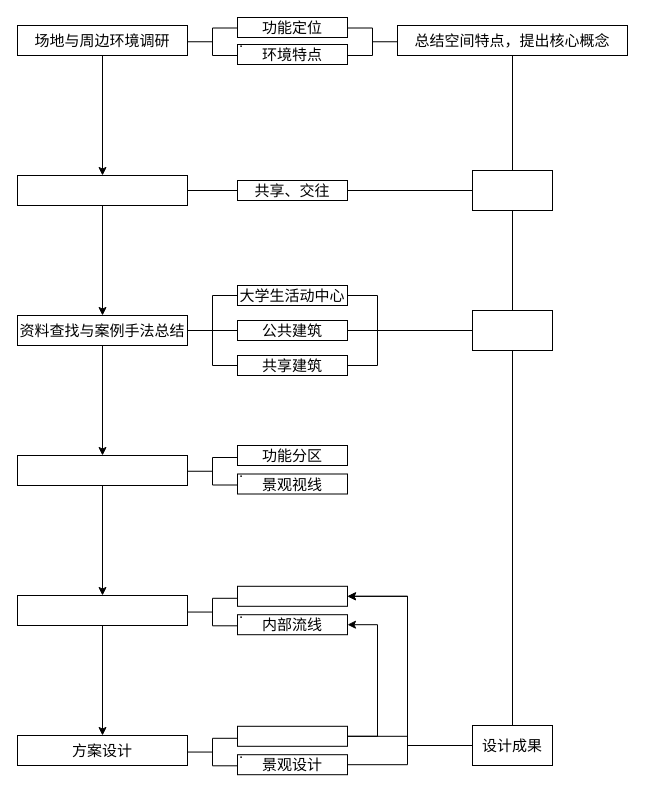
This 645x793 diagram has some shape labels left out. Here are the shapes that lost their labels. From the top down, the centre of each, then its label:
At point (102, 190): "核心理念确定".
At point (512, 190): "设计意向".
At point (512, 330): "设计手法".
At point (102, 470): "总体规划".
At point (102, 610): "空间组织".
At point (292, 595): "外部流线".
At point (292, 735): "建筑设计".
